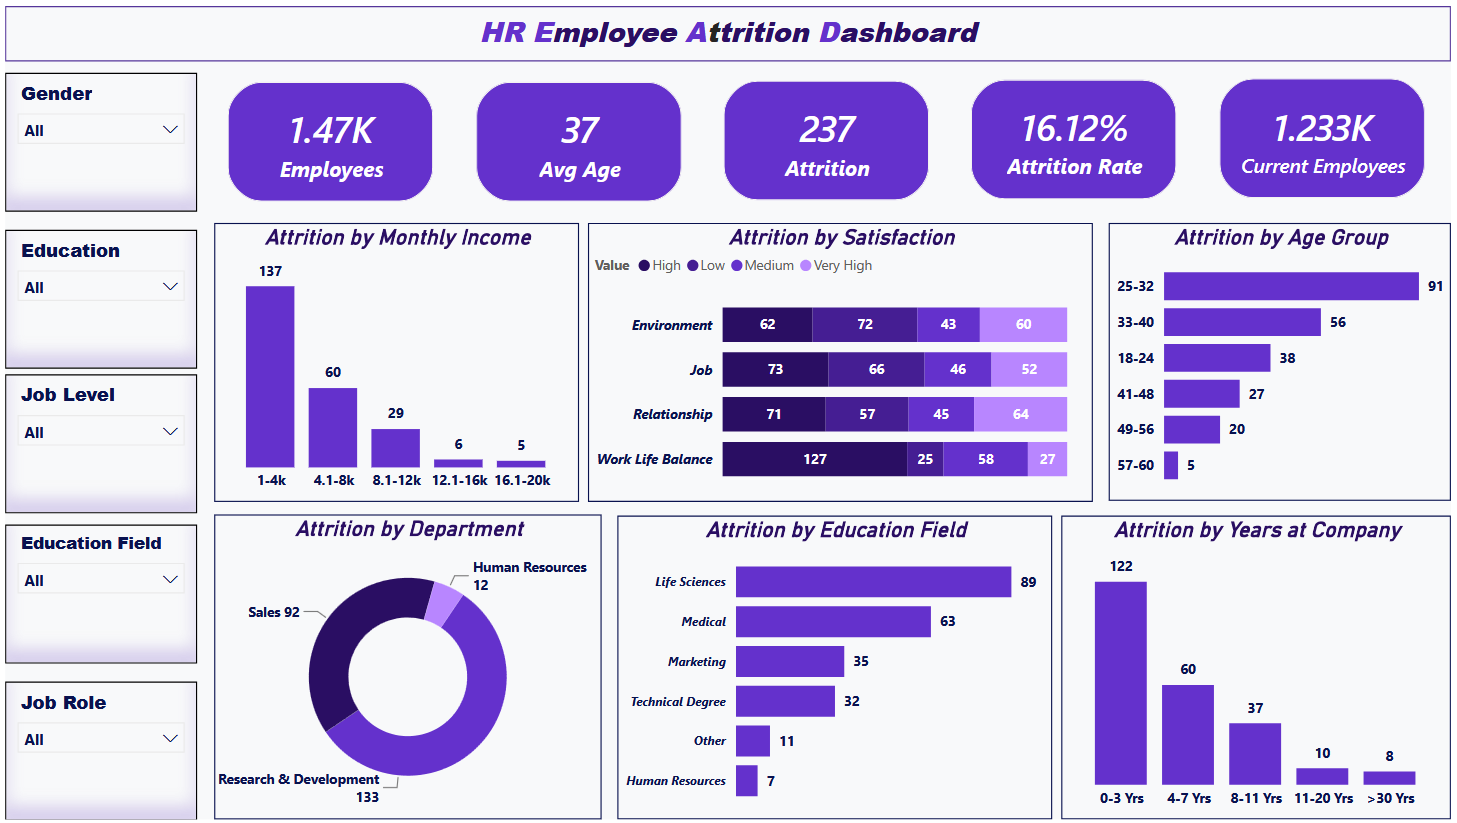

Layout of this report page (visuals, bound fields, positions):
{"tool":"powerbi","page":{"name":"Page 1","canvas":[1280,720],"ordinal":0},"visuals":[{"type":"cardVisual","title":"Attrition","fields":{"Data":["HR EMPLOYEE.Measure 3"]},"box":[624.1,53.4,206,130],"z":0,"group":"g2"},{"type":"slicer","fields":{"Values":["HR EMPLOYEE.Gender"]},"box":[0,58.8,170,123.4],"z":0,"group":"g1"},{"type":"slicer","fields":{"Values":["HR EMPLOYEE.Education"]},"box":[0,197.4,170,123.4],"z":0,"group":"g3"},{"type":"donutChart","title":"Attrition by Department","fields":{"Category":["HR EMPLOYEE.Department"],"Y":["HR EMPLOYEE.Measure 3"]},"box":[184.6,450,343.8,270.2],"z":0},{"type":"cardVisual","title":"Avg Age","fields":{"Data":["HR EMPLOYEE.avg age"]},"box":[404.7,54.2,206,130],"z":1000,"group":"g2"},{"type":"columnChart","title":"Attrition by Monthly Income","fields":{"Category":["HR EMPLOYEE.Custom"],"Y":["HR EMPLOYEE.Measure 3"]},"box":[184.6,191.8,323.3,247.3],"z":1000},{"type":"slicer","fields":{"Values":["HR EMPLOYEE.JobLevel"]},"box":[0,325,170,123.4],"z":1000,"group":"g3"},{"type":"cardVisual","title":"Depattment","fields":{"Data":["HR EMPLOYEE.Current Employees"]},"box":[1062.9,51.7,206,130],"z":2000,"group":"g2"},{"type":"barChart","title":"Attrition by Age Group","fields":{"Y":["HR EMPLOYEE.Measure 3"],"Category":["HR EMPLOYEE.Age groub"]},"box":[977.2,191.8,302.8,246.1],"z":2000},{"type":"slicer","fields":{"Values":["HR EMPLOYEE.EducationField"]},"box":[0,458.2,170,123.4],"z":2000,"group":"g3"},{"type":"cardVisual","title":"Attrition Rate","fields":{"Data":["HR EMPLOYEE.Attrition Rate"]},"box":[843.5,52.5,206,130],"z":3000,"group":"g2"},{"type":"barChart","title":"Attrition by Education Field","fields":{"Category":["HR EMPLOYEE.EducationField"],"Y":["HR EMPLOYEE.Measure 3"]},"box":[541.7,451.2,384.9,269],"z":3000},{"type":"slicer","fields":{"Values":["HR EMPLOYEE.JobRole"]},"box":[0,597.3,170,123.4],"z":3000,"group":"g3"},{"type":"cardVisual","fields":{"Data":["HR EMPLOYEE.employee"]},"box":[185,55,206.2,130],"z":4000,"group":"g2"},{"type":"columnChart","title":"Attrition by Years at Company","fields":{"Y":["HR EMPLOYEE.Measure 3"],"Category":["HR EMPLOYEE.Years At Company"]},"box":[935,451.2,345,269],"z":4000},{"type":"barChart","title":"Attrition by Satisfaction","fields":{"Series":["Satisfaction Analysis.Value"],"Y":["Satisfaction Analysis.Measure"],"Category":["Satisfaction Analysis.Attribute Name"]},"box":[516.4,191.8,446.4,247.3],"z":5000},{"type":"group","id":"g1","title":"Group 3","box":[0,58.8,170,660],"z":6000},{"type":"textbox","box":[0,0,1280,48.8],"z":7000},{"type":"group","id":"g2","title":"Group 1","box":[185,51.7,1083.9,133.3],"z":8000},{"type":"group","id":"g3","title":"Group 2","box":[0,197.4,170,521.4],"z":8000,"group":"g1"}]}

Visuals, with their boxes in screenshot pixels (x1, y1, x2, y2), scaled from the page's 1280x720 canvas onto the 1457x823 screenshot:
"Attrition" cardVisual: locate(710, 61, 945, 210)
slicer - HR EMPLOYEE.Gender: locate(0, 67, 194, 208)
slicer - HR EMPLOYEE.Education: locate(0, 226, 194, 367)
"Attrition by Department" donutChart: locate(210, 514, 601, 822)
"Avg Age" cardVisual: locate(461, 62, 695, 211)
"Attrition by Monthly Income" columnChart: locate(210, 219, 578, 502)
slicer - HR EMPLOYEE.JobLevel: locate(0, 371, 194, 513)
"Depattment" cardVisual: locate(1210, 59, 1444, 208)
"Attrition by Age Group" barChart: locate(1112, 219, 1456, 501)
slicer - HR EMPLOYEE.EducationField: locate(0, 524, 194, 665)
"Attrition Rate" cardVisual: locate(960, 60, 1195, 209)
"Attrition by Education Field" barChart: locate(617, 516, 1055, 822)
slicer - HR EMPLOYEE.JobRole: locate(0, 683, 194, 822)
cardVisual - HR EMPLOYEE.employee: locate(211, 63, 445, 211)
"Attrition by Years at Company" columnChart: locate(1064, 516, 1456, 822)
"Attrition by Satisfaction" barChart: locate(588, 219, 1096, 502)
"Group 3" group: locate(0, 67, 194, 822)
textbox: locate(0, 0, 1456, 56)
"Group 1" group: locate(211, 59, 1444, 211)
"Group 2" group: locate(0, 226, 194, 822)
